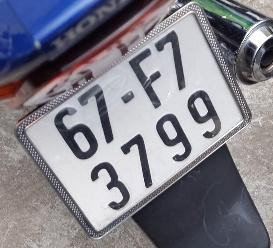3: (83, 154, 137, 218)
6: (45, 100, 106, 169)
7: (112, 126, 167, 198), (72, 77, 126, 150), (150, 25, 201, 99)
9: (146, 106, 205, 172), (177, 83, 232, 148)
F: (122, 44, 176, 115)
